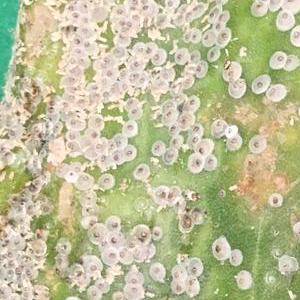Femea: (97, 57, 115, 76), (119, 70, 138, 87), (71, 37, 90, 53), (164, 111, 177, 134), (90, 224, 105, 238), (158, 187, 174, 200), (191, 124, 200, 146), (107, 231, 121, 245), (252, 75, 265, 89), (103, 249, 116, 263), (272, 50, 283, 66), (279, 11, 290, 27), (190, 157, 203, 170), (92, 140, 105, 153), (116, 249, 127, 264), (107, 217, 119, 230), (247, 138, 261, 149), (118, 20, 132, 31), (98, 176, 112, 187), (64, 140, 80, 149), (197, 141, 208, 154), (121, 147, 135, 157), (89, 116, 100, 128), (204, 157, 214, 170), (106, 140, 116, 153), (113, 134, 123, 147), (86, 128, 97, 139), (125, 123, 135, 135), (176, 50, 184, 65), (284, 53, 293, 66), (98, 155, 107, 168), (67, 130, 80, 139), (144, 45, 154, 56), (152, 52, 163, 62), (270, 196, 280, 206), (68, 119, 80, 127), (220, 31, 227, 44), (112, 153, 121, 163), (196, 64, 204, 75)
Macho: (105, 103, 127, 110), (154, 27, 165, 41), (100, 18, 109, 32), (96, 32, 106, 44), (199, 10, 207, 24), (200, 22, 210, 31)
